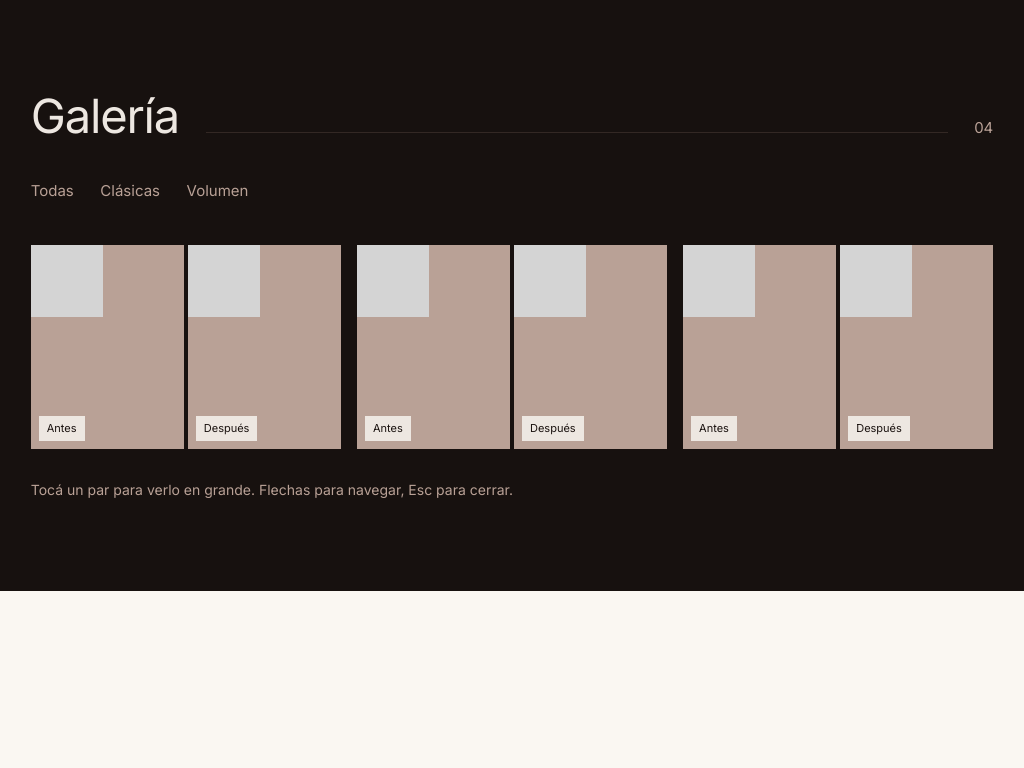
LandingGallery — US-LAND-03 › criterio 3: la galería ampliada abre el par elegido y recorre los demás con botones y flechas
Step 1. Click the 2nd button "Antes Después" → (512, 347), box [357,245,667,449]
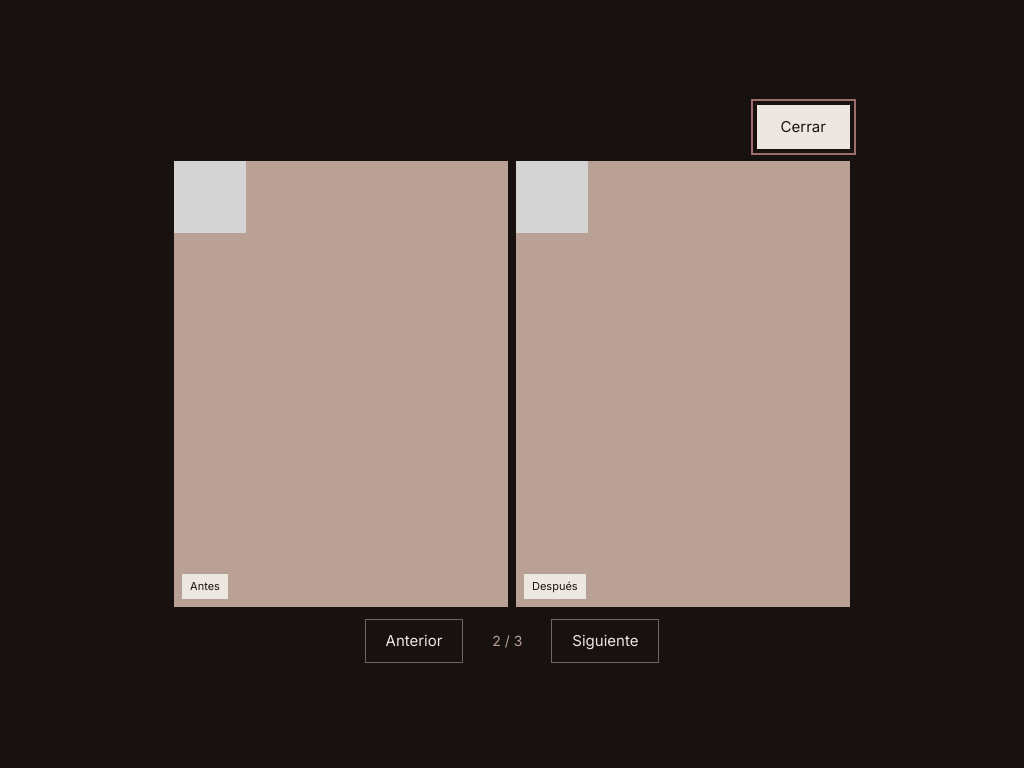
Result: the text "2 / 3" is shown at [492,632,522,649]
Step 2. Click the button "Siguiente" → (605, 641), box [551,619,660,663]
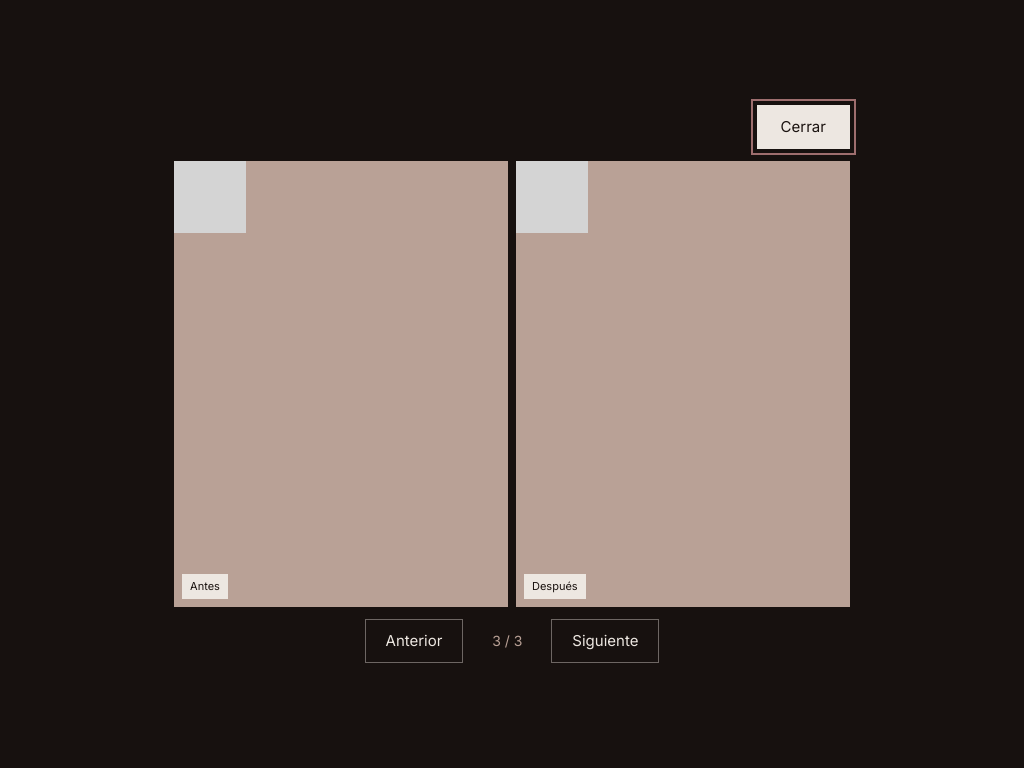
Step 3. Press ArrowRight
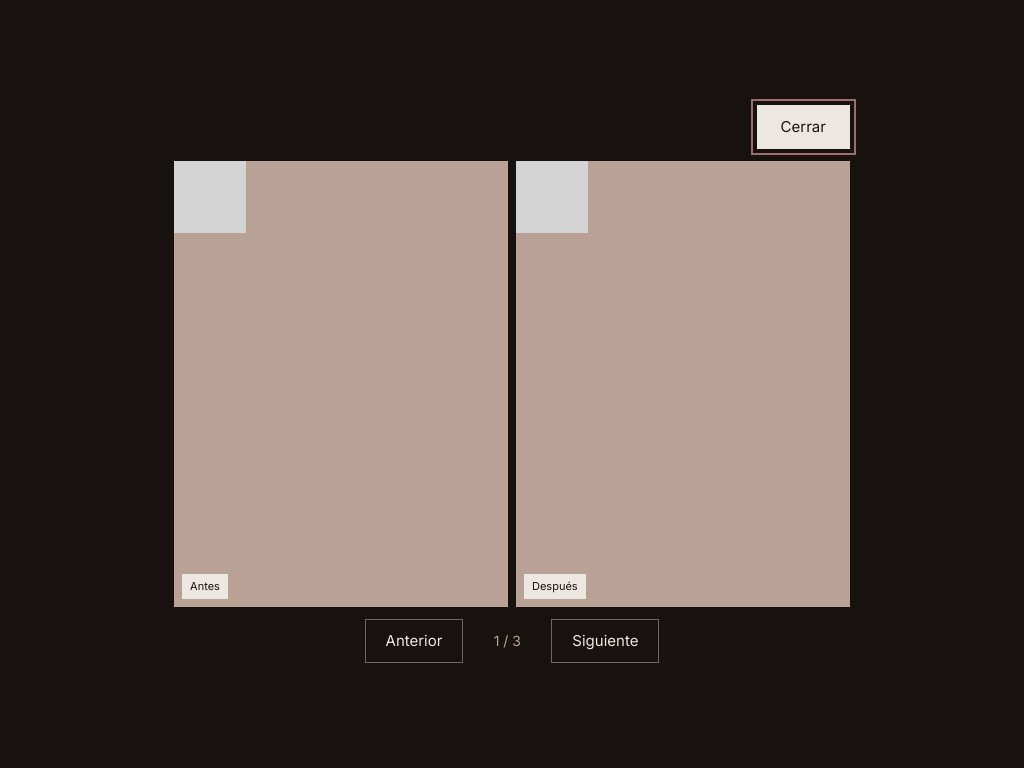
Result: the text "1 / 3" is shown at [494,632,521,649]
Step 4. Press ArrowLeft
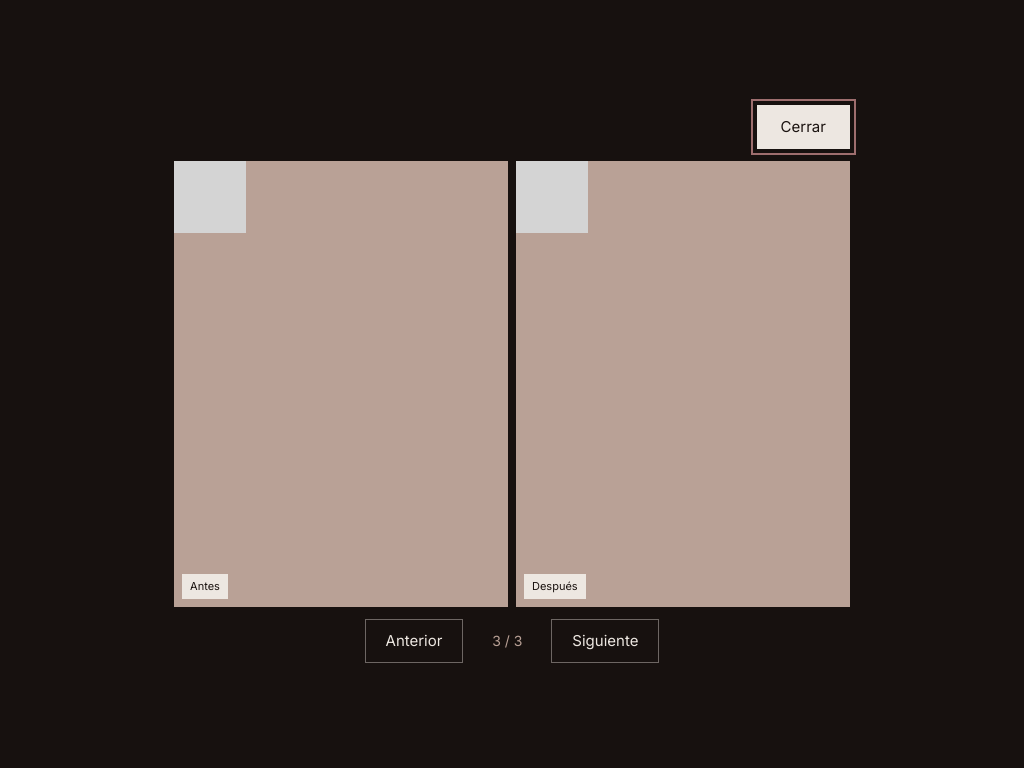
Result: the text "3 / 3" is shown at [492,632,522,649]
